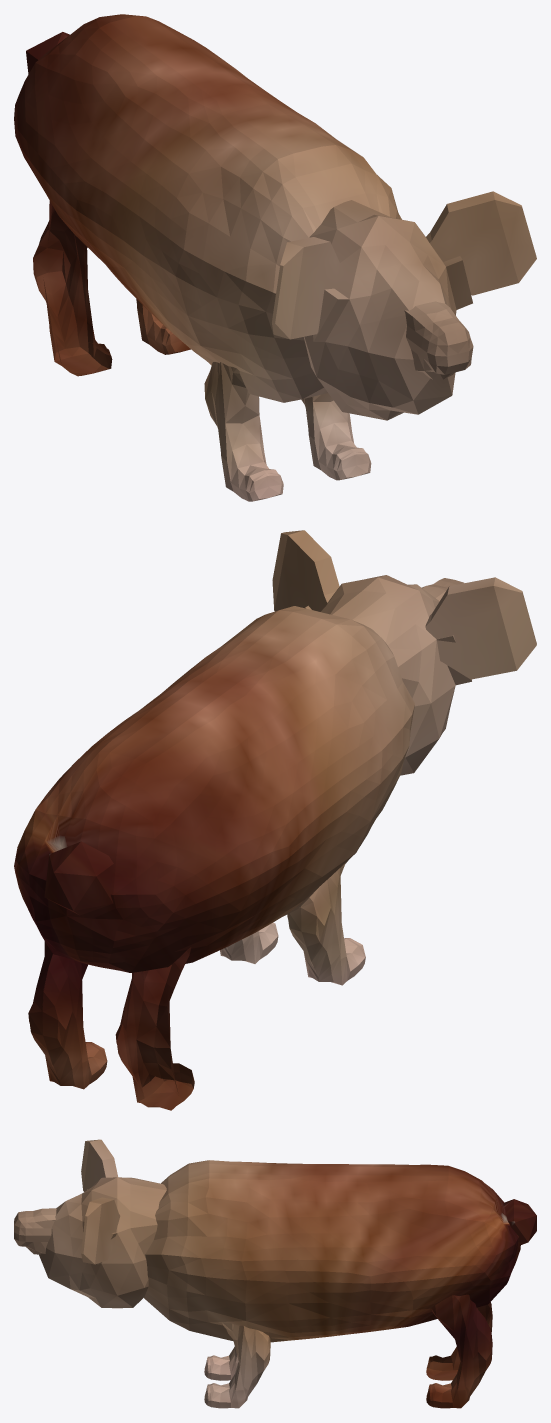
The model's file is animal-pig.fbx.
3 views of the same model, one above another, from view 1: azimuth 30°, elevation 25°; view 2: azimuth 150°, elevation 25°; view 3: azimuth 270°, elevation 25° (orthographic). The views are drawn at different scales.
Visible parts, largest first — view 1: Cube.001; view 2: Cube.001; view 3: Cube.001.
Boxes of the visible parts, box(x1,y1,x2,y2) form: Cube.001: box(14, 14, 536, 501); Cube.001: box(14, 530, 536, 1110); Cube.001: box(14, 1139, 536, 1408).
Size of the model in its own units: 33.16 by 40.78 by 87.64.
